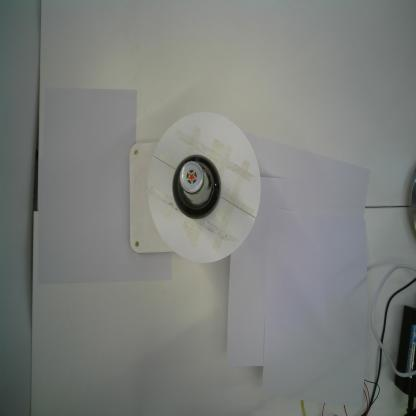Alcohol: (171, 154, 221, 220)
